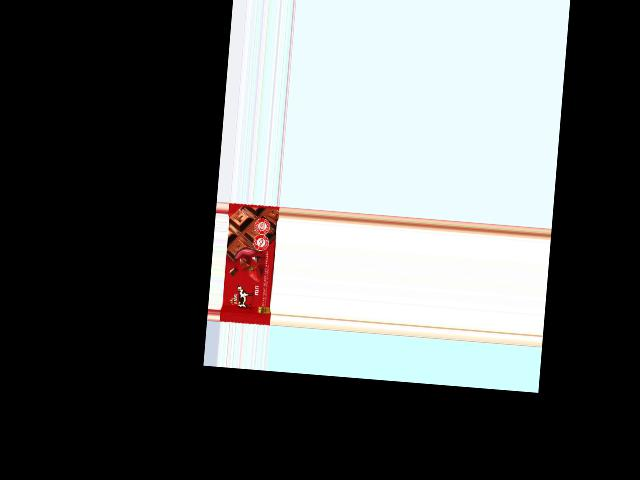chocolate: (219, 203, 279, 326)
